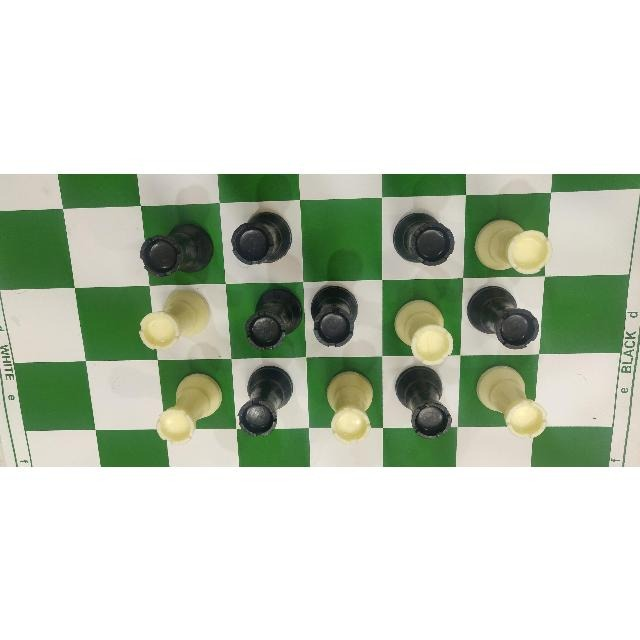black-rook: (466, 281, 538, 353), (387, 367, 457, 437), (227, 285, 303, 349), (140, 215, 217, 278), (384, 209, 461, 269), (308, 286, 378, 350), (239, 365, 303, 435), (224, 211, 298, 269)
white-rook: (468, 361, 556, 437), (469, 202, 555, 275), (384, 289, 459, 365), (154, 368, 224, 444), (314, 366, 380, 444), (132, 293, 219, 351)
